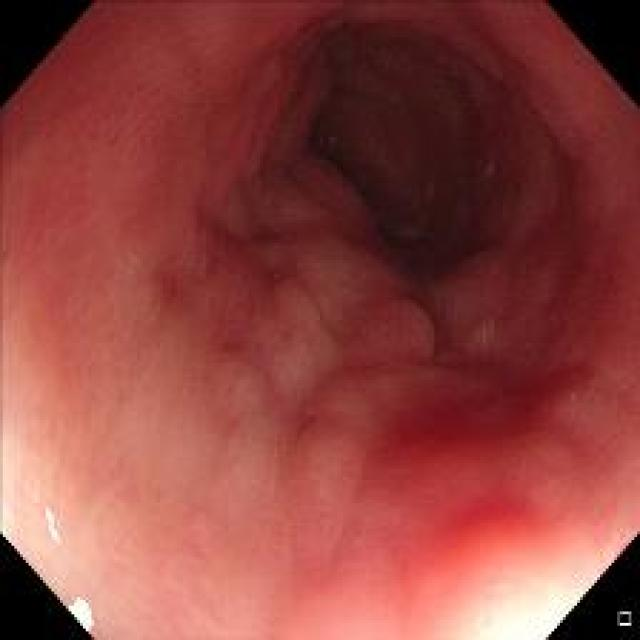contrast: (318, 44, 515, 294)
saturation: (472, 579, 581, 638)
specularity: (64, 590, 99, 639), (41, 509, 61, 545)
